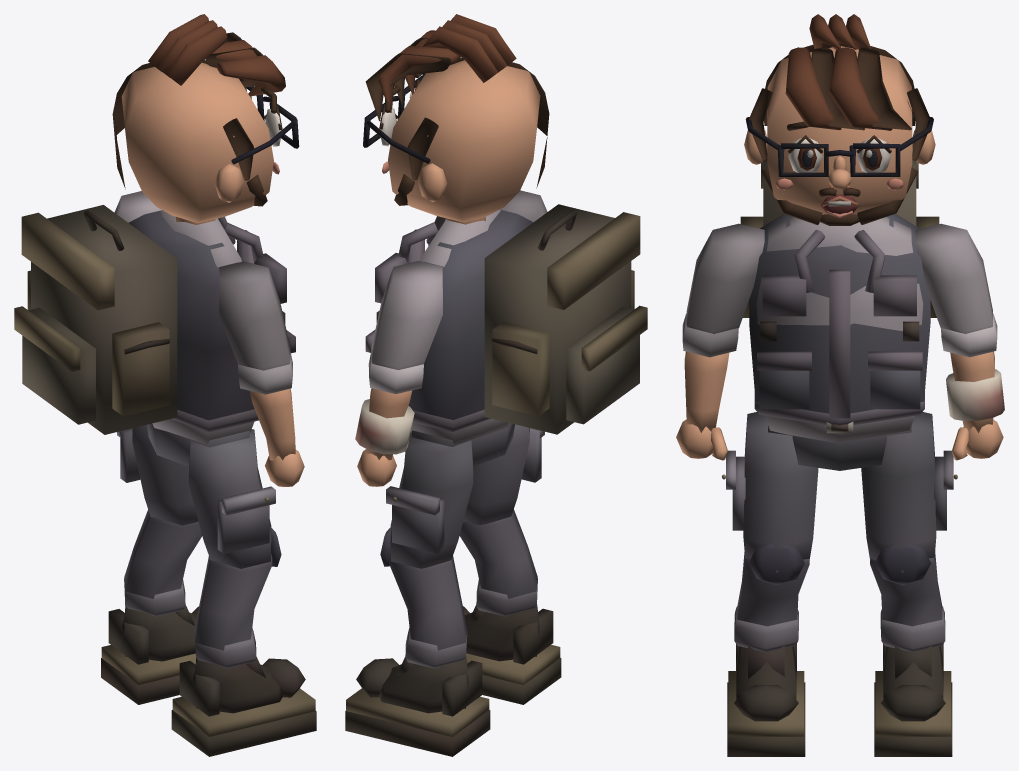
Rendered from npc.survivor-group.aftermath.sam.glb.
The picture shows the model from 3 angles, left to right: view 1: azimuth 30°, elevation 25°; view 2: azimuth 150°, elevation 25°; view 3: azimuth 270°, elevation 25°; orthographic projection. The views are drawn at different scales.
Visible parts, largest first — view 1: torso, head, footR, legR, footL, shinR, armR, shinL, legL, foreArmR, hip, handR (+1 smaller); view 2: torso, head, footL, legL, footR, shinL, armL, shinR, foreArmL, legR, hip, handL (+1 smaller); view 3: torso, head, legR, legL, footR, footL, shinL, shinR, armR, armL, foreArmL, foreArmR (+3 smaller).
Part boxes in pixels (x1,y1,x2,y2): torso: [14, 205, 295, 444]; head: [112, 14, 299, 224]; footR: [171, 656, 316, 756]; legR: [188, 429, 275, 568]; footL: [101, 605, 198, 704]; shinR: [194, 527, 281, 668]; armR: [219, 261, 290, 370]; shinL: [124, 509, 202, 616]; legL: [117, 425, 198, 525]; foreArmR: [238, 352, 295, 460]; hip: [147, 423, 249, 466]; handR: [265, 449, 304, 486]; torso: [365, 204, 647, 444]; head: [363, 14, 549, 224]; footL: [345, 656, 490, 756]; legL: [386, 431, 473, 568]; footR: [463, 605, 561, 704]; shinL: [380, 527, 467, 668]; armL: [371, 261, 442, 370]; shinR: [459, 509, 537, 616]; foreArmL: [355, 352, 423, 460]; legR: [463, 424, 544, 525]; hip: [411, 423, 514, 466]; handL: [357, 449, 396, 486]; torso: [740, 152, 939, 443]; head: [744, 14, 935, 225]; legR: [722, 412, 818, 560]; legL: [861, 412, 957, 560]; footR: [727, 643, 805, 756]; footL: [874, 644, 952, 756]; shinL: [870, 543, 945, 652]; shinR: [734, 543, 809, 652]; armR: [686, 223, 764, 334]; armL: [915, 223, 992, 333]; foreArmL: [941, 313, 1004, 432]; foreArmR: [682, 313, 738, 432].
Bounding box in the file's own units: 0.6327 × 1.78 × 0.7497.
